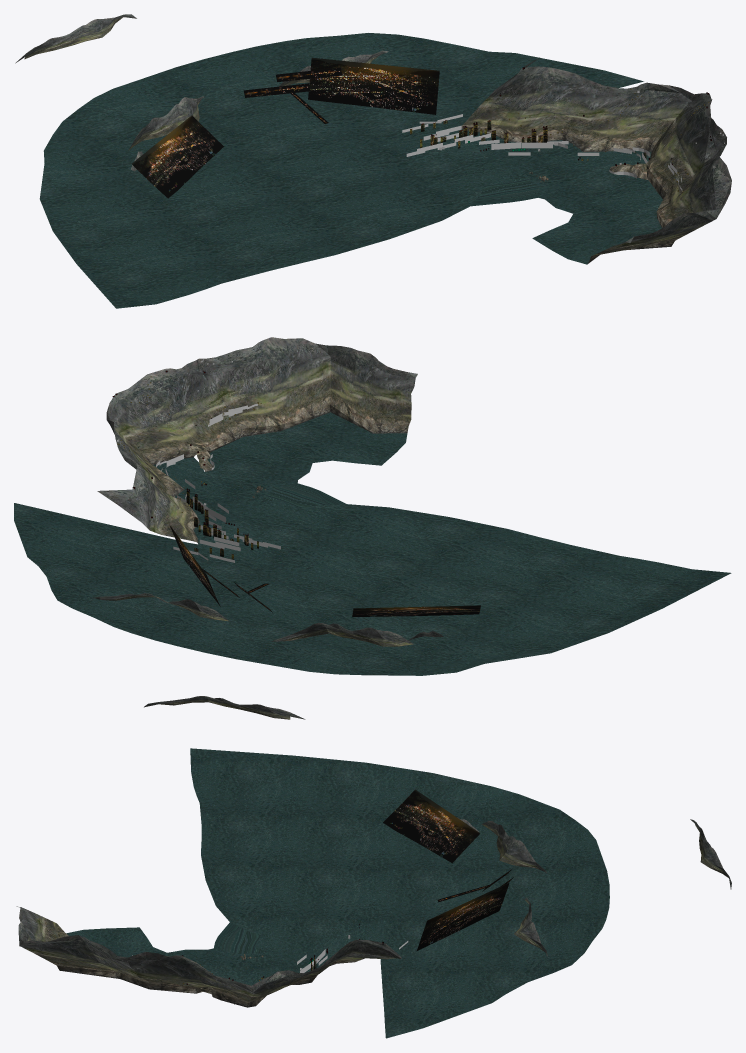
Rendered from exdrift_back.fbx.
The picture shows the model from 3 angles, top to bottom: view 1: azimuth 30°, elevation 25°; view 2: azimuth 150°, elevation 25°; view 3: azimuth 270°, elevation 25°; orthographic projection. The views are drawn at different scales.
Visible parts, largest first — view 1: PAN_EXOcean_Xenon, PAN_CoastalineMountains_SUB1, PAN_CTDrift_DistantCity_SUB1, PAN_CoastalineMountains_SUB0, PAN_EXIslands, PAN_EXIslands_CG, PAN_CTDrift_DistantCity_SUB0, PAN_x0020__Coastal_City_N03_SUB0, PAN_x0020__Coastal_City_N02; view 2: PAN_EXOcean_Xenon, PAN_CoastalineMountains_SUB1, PAN_CoastalineMountains_SUB0, PAN_EXIslands, PAN_CTDrift_DistantCity_SUB1, PAN_EXIslands_CG, PAN_x0020__Coastal_City_N02, PAN_x0020__Coastal_City_N03_SUB0; view 3: PAN_EXOcean_Xenon, PAN_CoastalineMountains_SUB1, PAN_CTDrift_DistantCity_SUB1, PAN_CoastalineMountains_SUB0, PAN_EXIslands, PAN_EXIslands_CG.
Part boxes in pixels (bbox=[...]): PAN_EXOcean_Xenon: bbox=[39, 33, 662, 308]; PAN_CoastalineMountains_SUB1: bbox=[464, 57, 731, 255]; PAN_CTDrift_DistantCity_SUB1: bbox=[131, 57, 439, 198]; PAN_CoastalineMountains_SUB0: bbox=[461, 124, 682, 264]; PAN_EXIslands: bbox=[128, 50, 388, 171]; PAN_EXIslands_CG: bbox=[15, 14, 136, 63]; PAN_CTDrift_DistantCity_SUB0: bbox=[243, 67, 342, 123]; PAN_x0020__Coastal_City_N03_SUB0: bbox=[417, 125, 552, 150]; PAN_x0020__Coastal_City_N02: bbox=[420, 120, 646, 158]; PAN_EXOcean_Xenon: bbox=[14, 412, 731, 675]; PAN_CoastalineMountains_SUB1: bbox=[97, 337, 417, 540]; PAN_CoastalineMountains_SUB0: bbox=[140, 393, 410, 543]; PAN_EXIslands: bbox=[92, 593, 443, 646]; PAN_CTDrift_DistantCity_SUB1: bbox=[169, 525, 480, 616]; PAN_EXIslands_CG: bbox=[144, 696, 305, 719]; PAN_x0020__Coastal_City_N02: bbox=[170, 457, 258, 549]; PAN_x0020__Coastal_City_N03_SUB0: bbox=[192, 496, 267, 551]; PAN_EXOcean_Xenon: bbox=[66, 748, 609, 1038]; PAN_CoastalineMountains_SUB1: bbox=[16, 906, 401, 1000]; PAN_CTDrift_DistantCity_SUB1: bbox=[383, 789, 509, 950]; PAN_CoastalineMountains_SUB0: bbox=[49, 924, 364, 1007]; PAN_EXIslands: bbox=[457, 817, 547, 956]; PAN_EXIslands_CG: bbox=[690, 819, 731, 889].
Size of the model in its own units: 11059 by 1611 by 11744.
